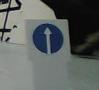forward: (33, 24, 65, 55)
